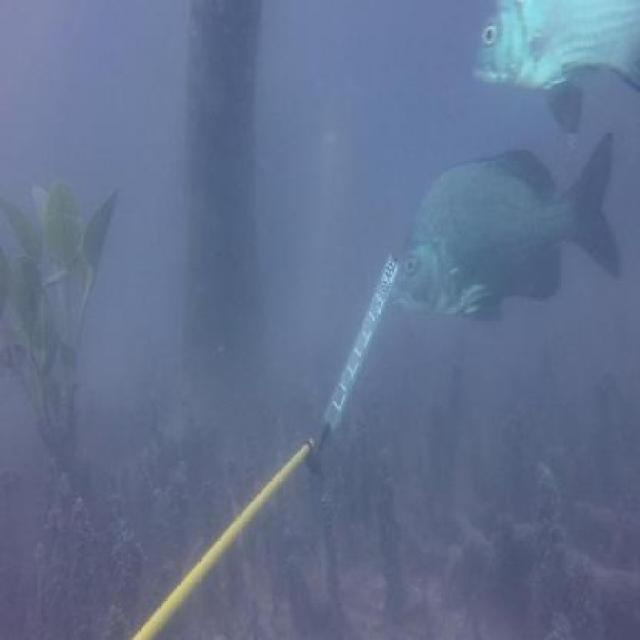acanthopagrus_palmaris: (387, 133, 631, 325), (463, 0, 640, 132)
